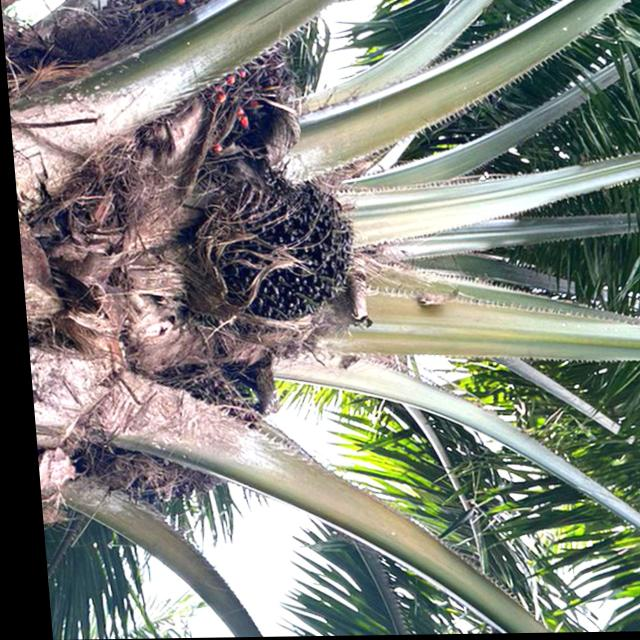unripe: (174, 175, 364, 335)
